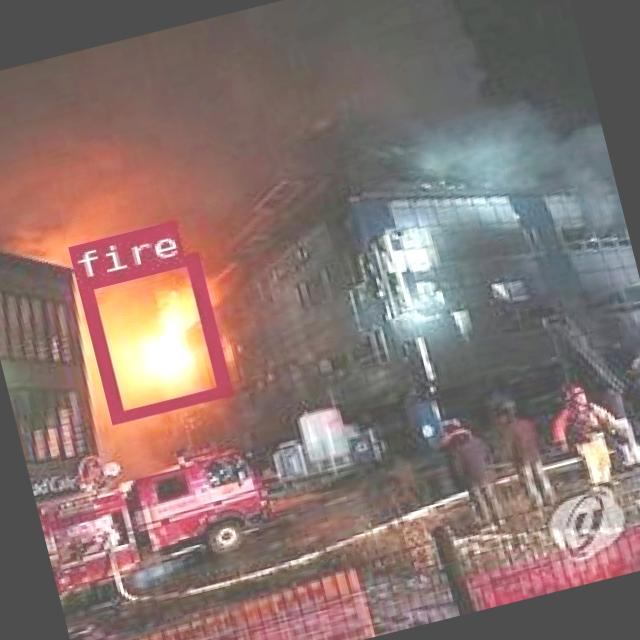fire: (74, 252, 228, 423)
